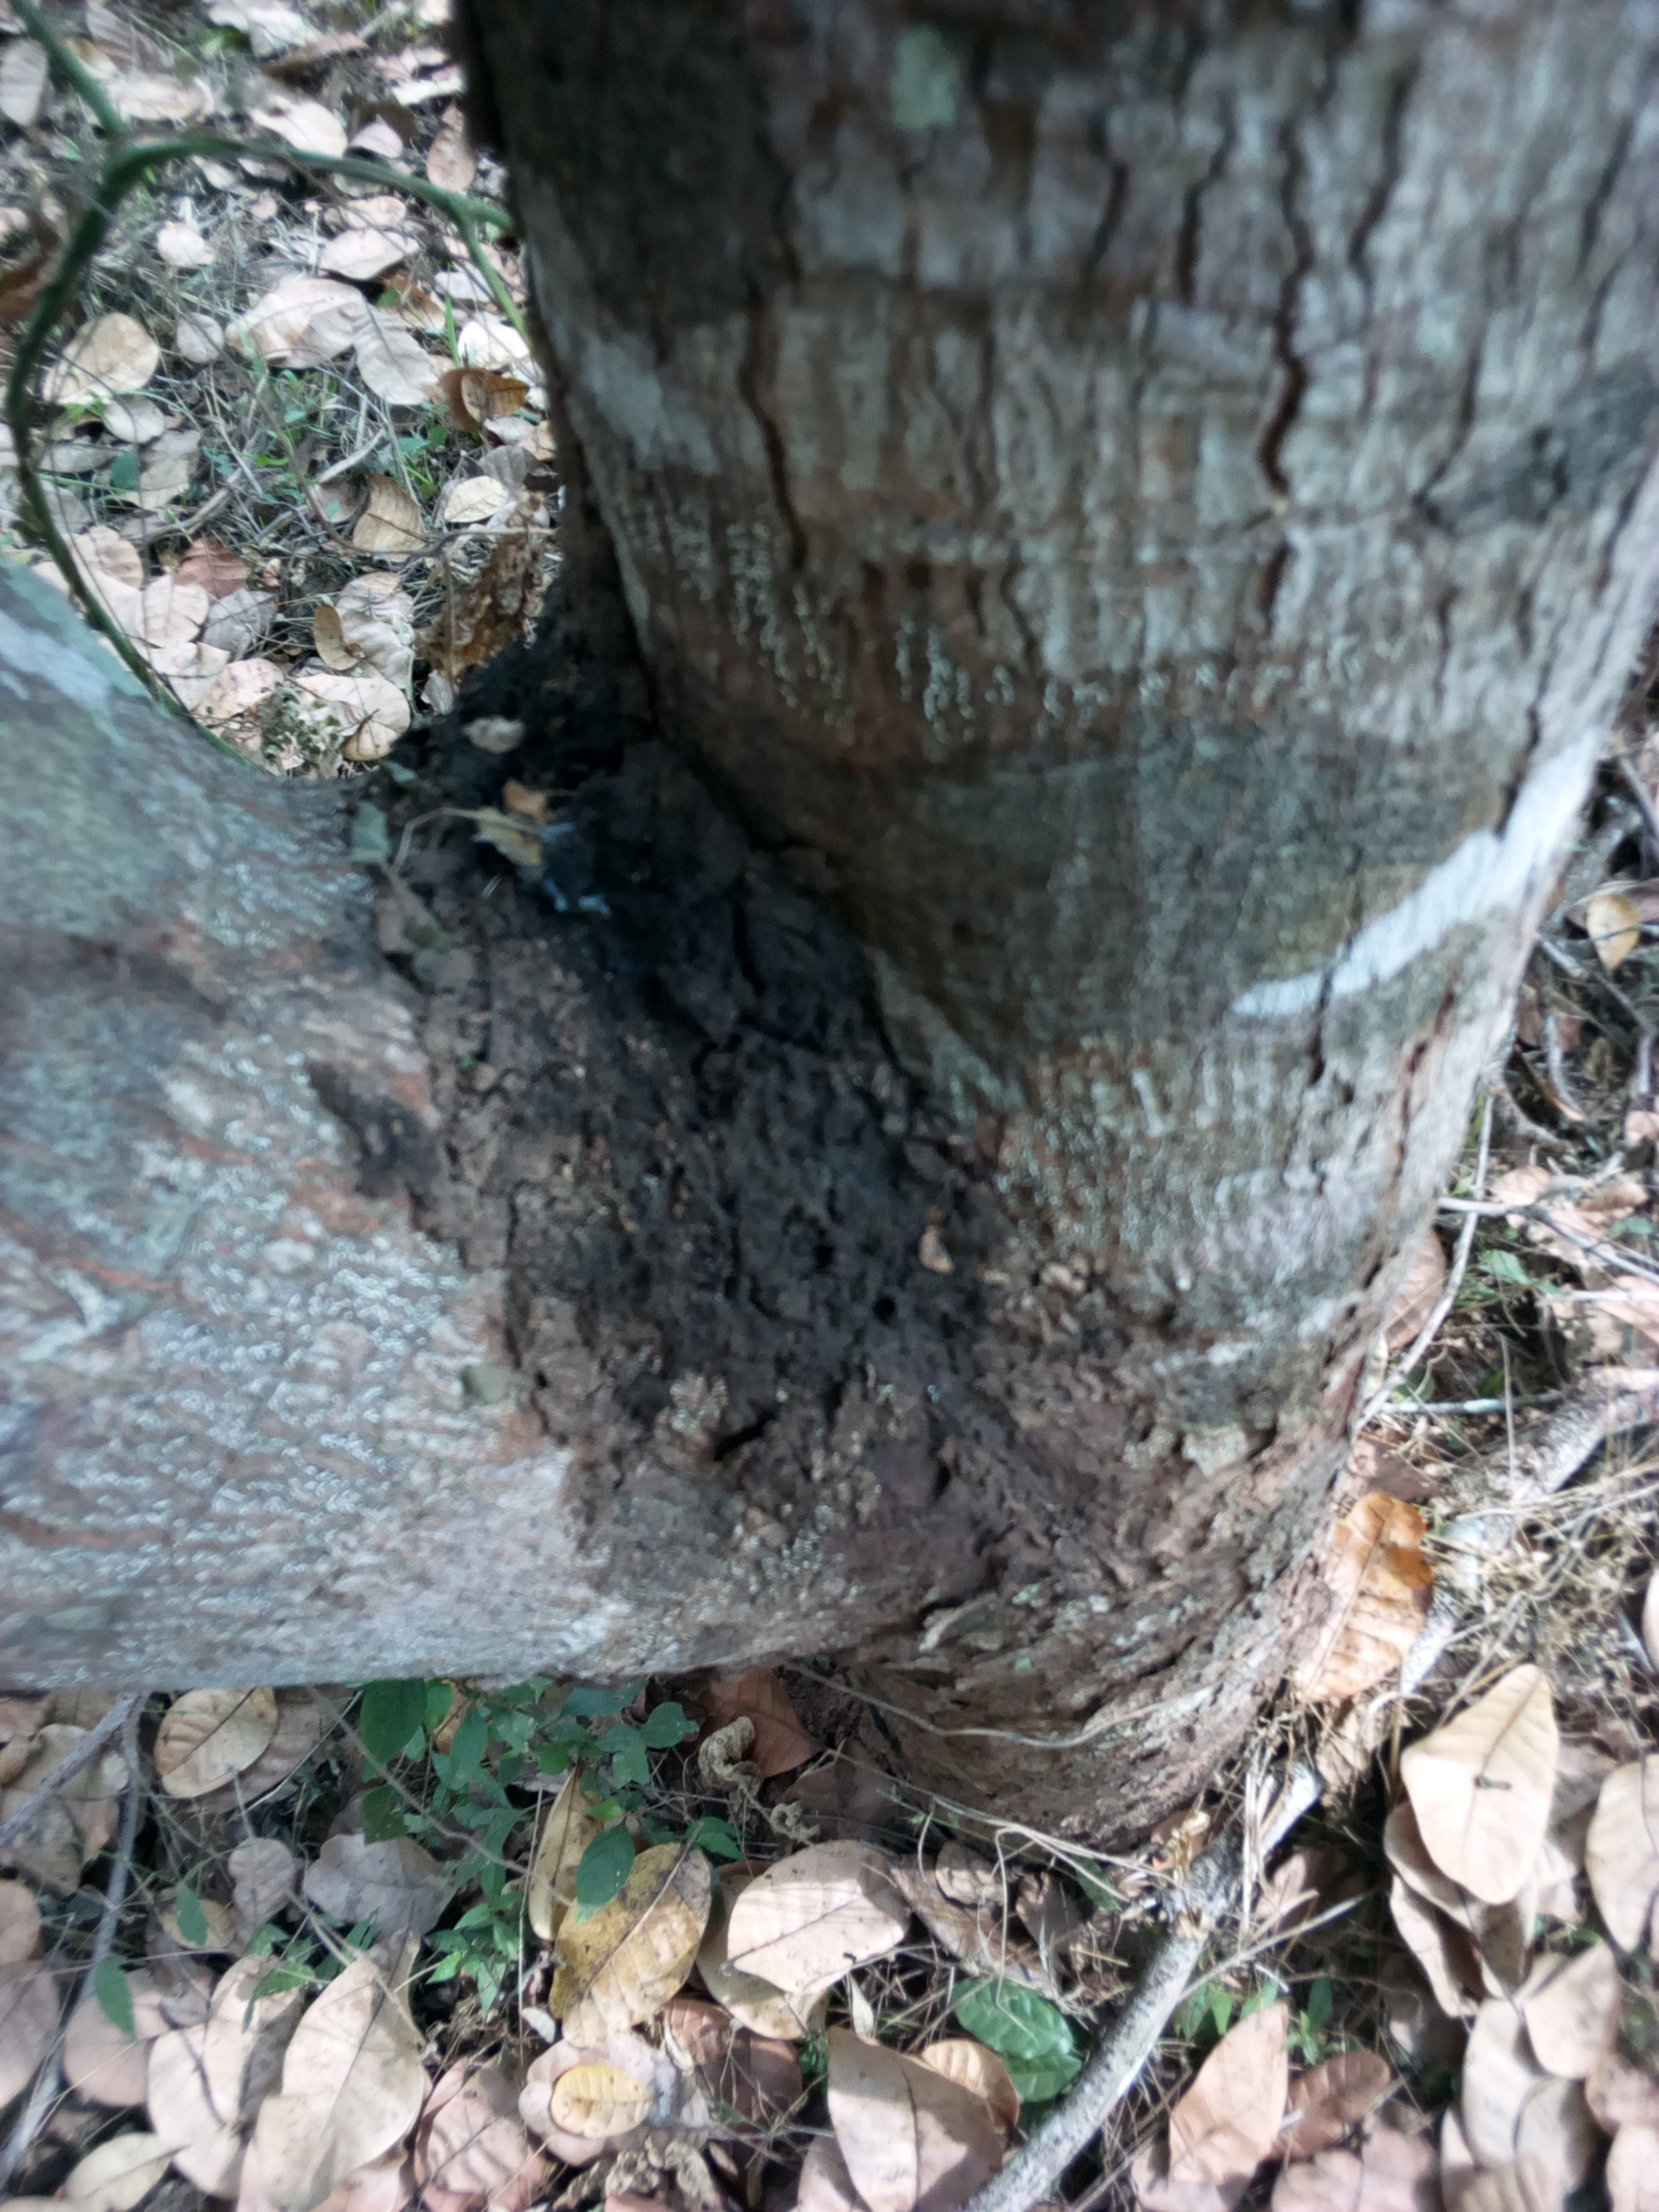Gommose: (406, 679, 1030, 1529)
